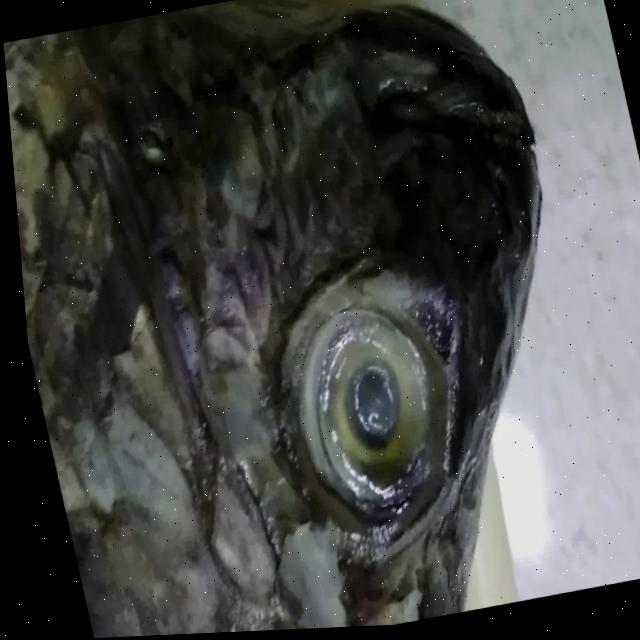Non-Fresh: (261, 286, 461, 533)
